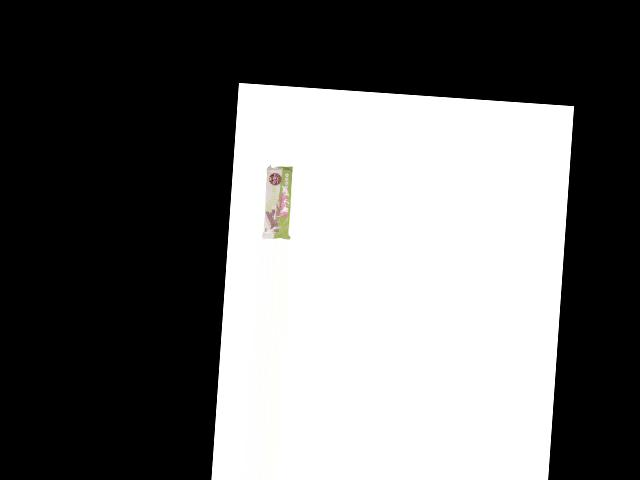chocolate: (259, 162, 294, 240)
